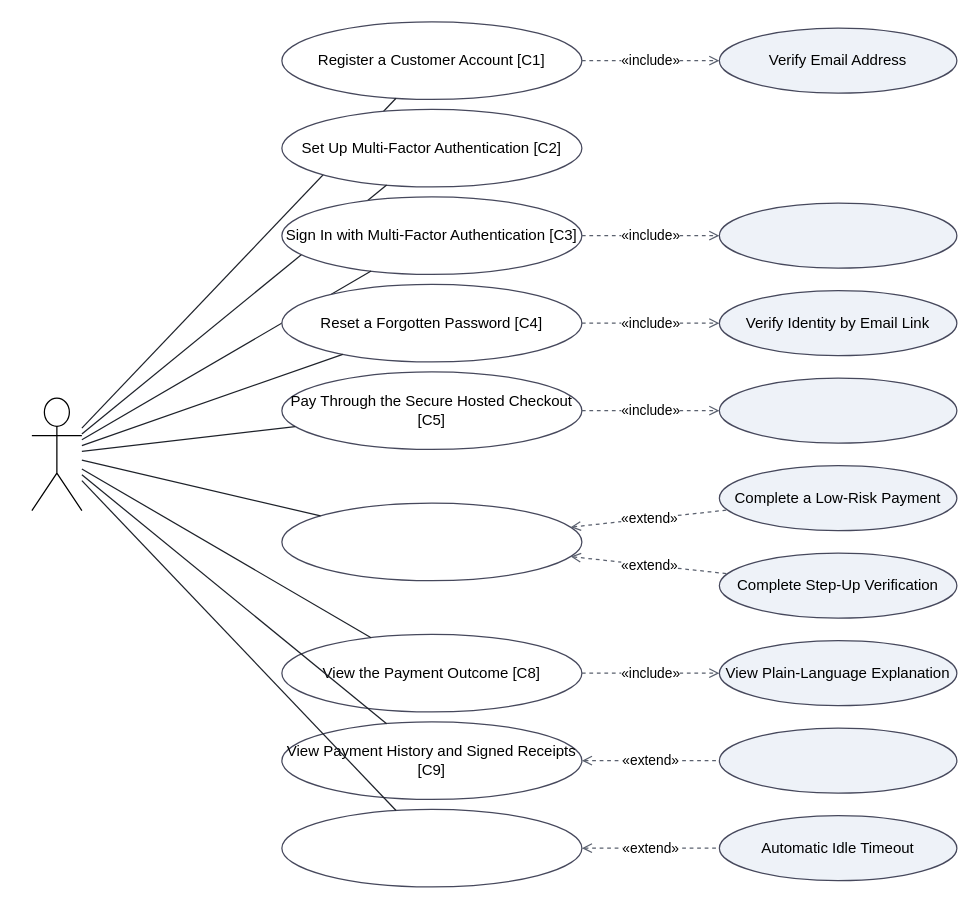
Some shapes in this 979 by 909 pixel diagram are drawn without their labels. Each missing label, with the centre of its shape:
"Customer" belongs at [56,454].
"Enter Card on Secure Page" belongs at [837,410].
"Manage Active Sessions [C10]" belongs at [431,847].
"Process Checkout by Risk [C6 / C7]" belongs at [431,541].
"Provide Second Factor" belongs at [837,235].
"Verify Receipt Signature" belongs at [837,760].
